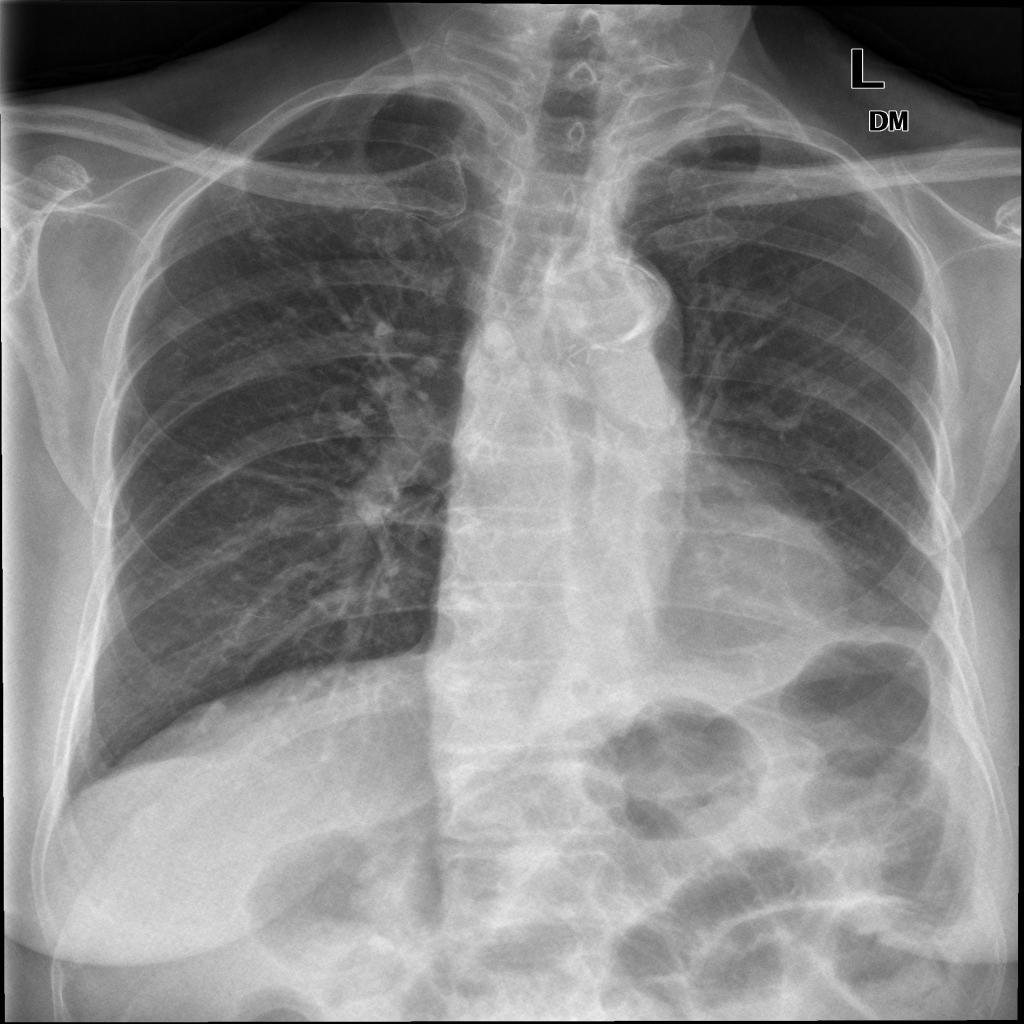Nodule: (117, 151, 156, 170), (81, 145, 103, 155)
